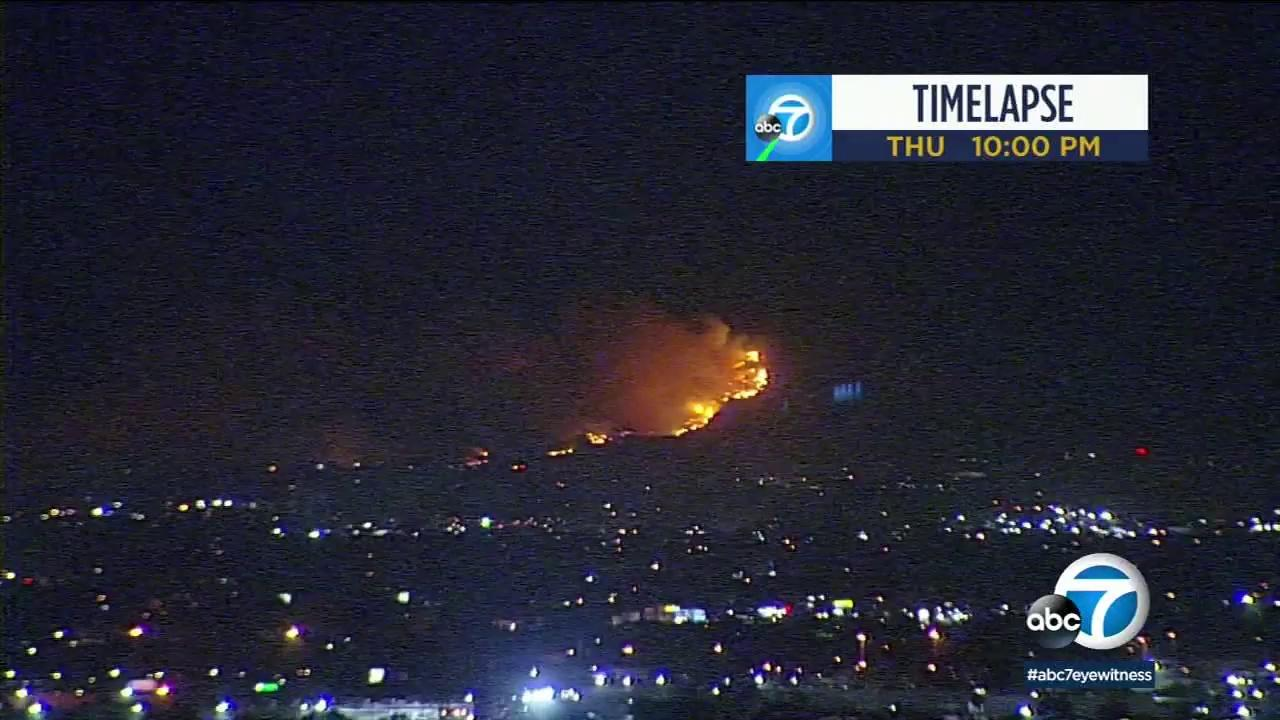Fire: (674, 353, 768, 433), (588, 432, 607, 446), (548, 449, 573, 456), (479, 448, 490, 457)
